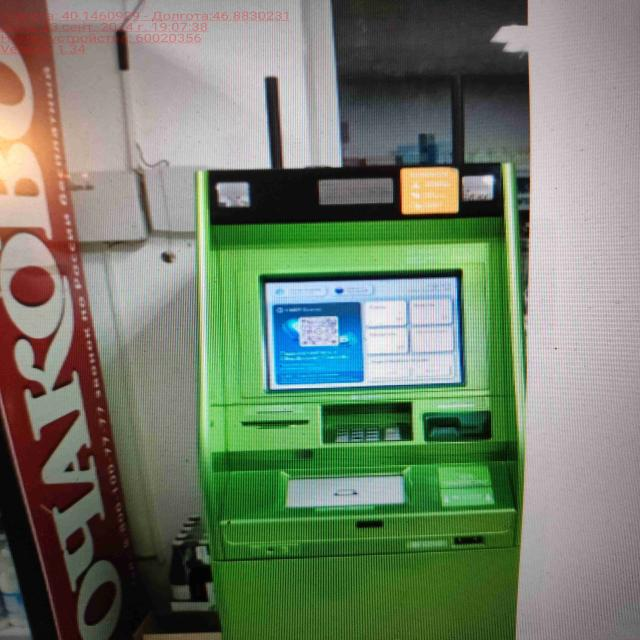bank: (188, 159, 522, 640)
